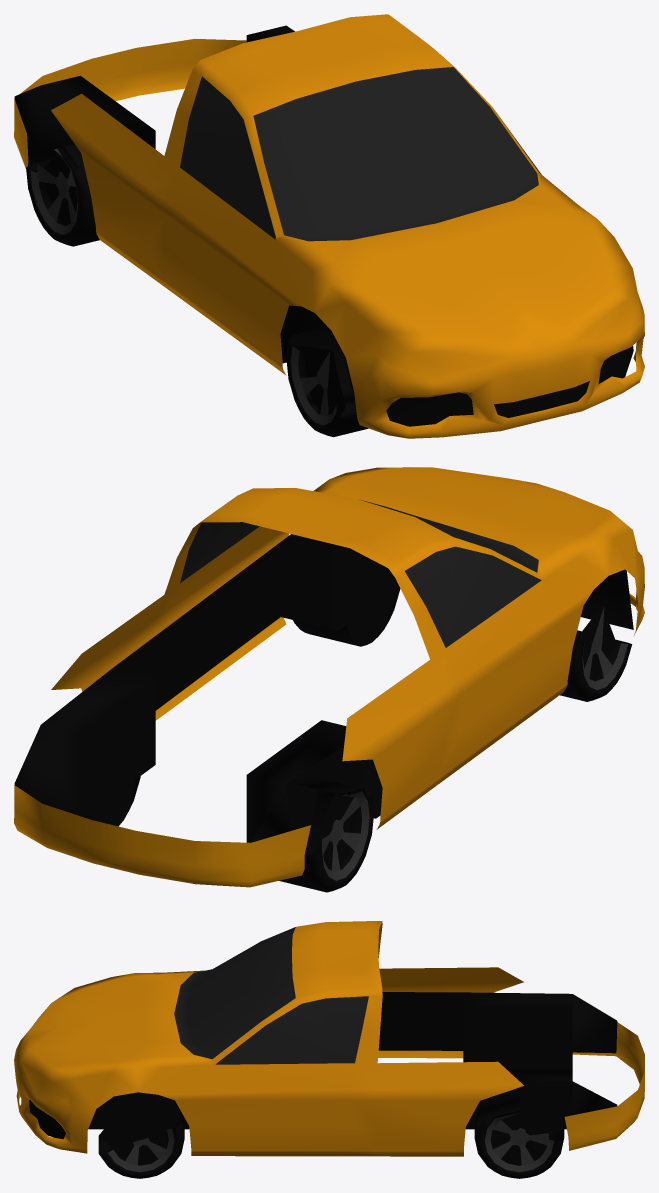
3 renders of one model, top to bottom at view 1: azimuth 30°, elevation 25°; view 2: azimuth 150°, elevation 25°; view 3: azimuth 270°, elevation 25°, orthographic. The views are drawn at different scales.
Parts seen in each view (by area): view 1: Plane.016; view 2: Plane.016; view 3: Plane.016.
Boxes of the visible parts, left/top/right/bottom form: Plane.016: left=14, top=14, right=644, bottom=438; Plane.016: left=14, top=467, right=644, bottom=892; Plane.016: left=14, top=921, right=644, bottom=1178.
Size of the model in its own units: 1.7 by 4.32 by 1.37.
